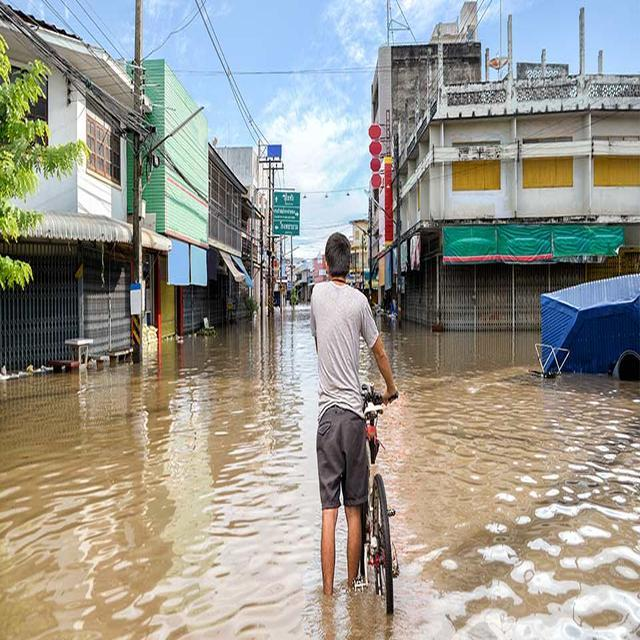Person-RiskLevel2: (305, 229, 395, 604)
